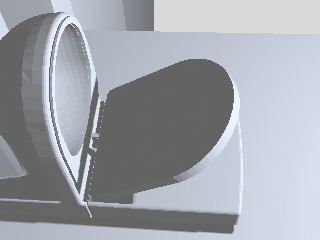lid_1: (88, 59, 239, 201)
